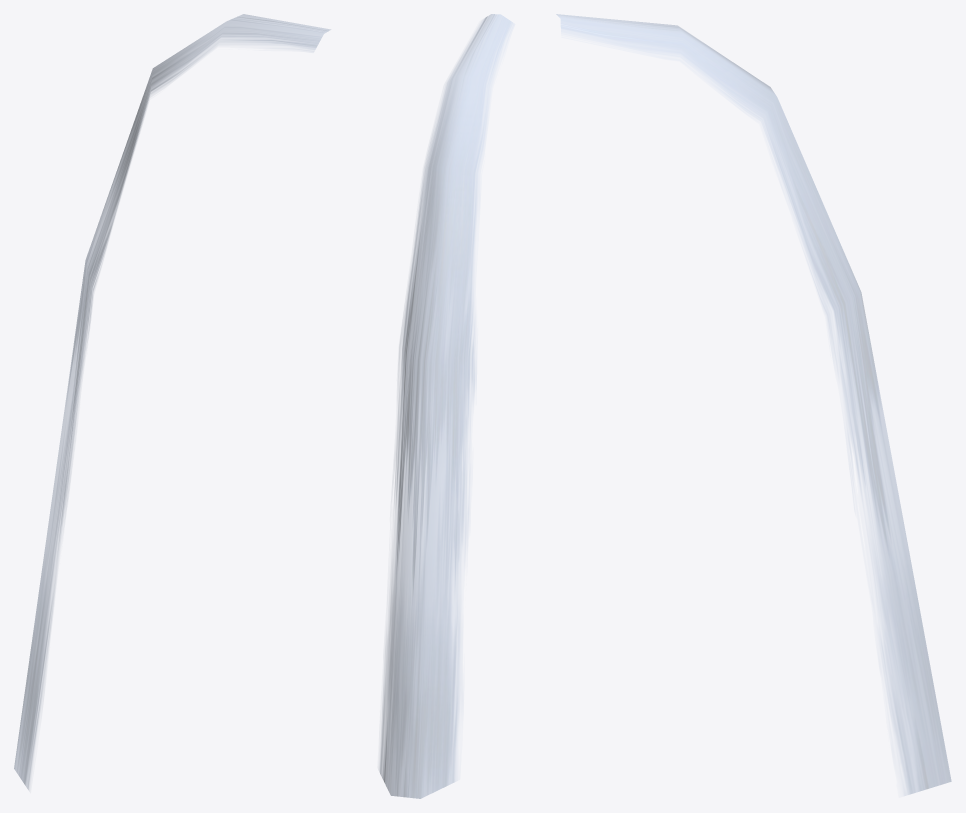
3 renders of one model, left to right at view 1: azimuth 30°, elevation 25°; view 2: azimuth 150°, elevation 25°; view 3: azimuth 270°, elevation 25°, orthographic. The views are drawn at different scales.
Visible parts, largest first — view 1: CJ_WF_dr_03; view 2: CJ_WF_dr_03; view 3: CJ_WF_dr_03.
Boxes of the visible parts, x1,y1,x2,y2 form: CJ_WF_dr_03: (14,14,330,789); CJ_WF_dr_03: (379,14,513,798); CJ_WF_dr_03: (556,14,951,795).
Bounding box in the file's own units: 1.15 × 6.32 × 2.91.
Materials: 1 (1 with a texture image).
